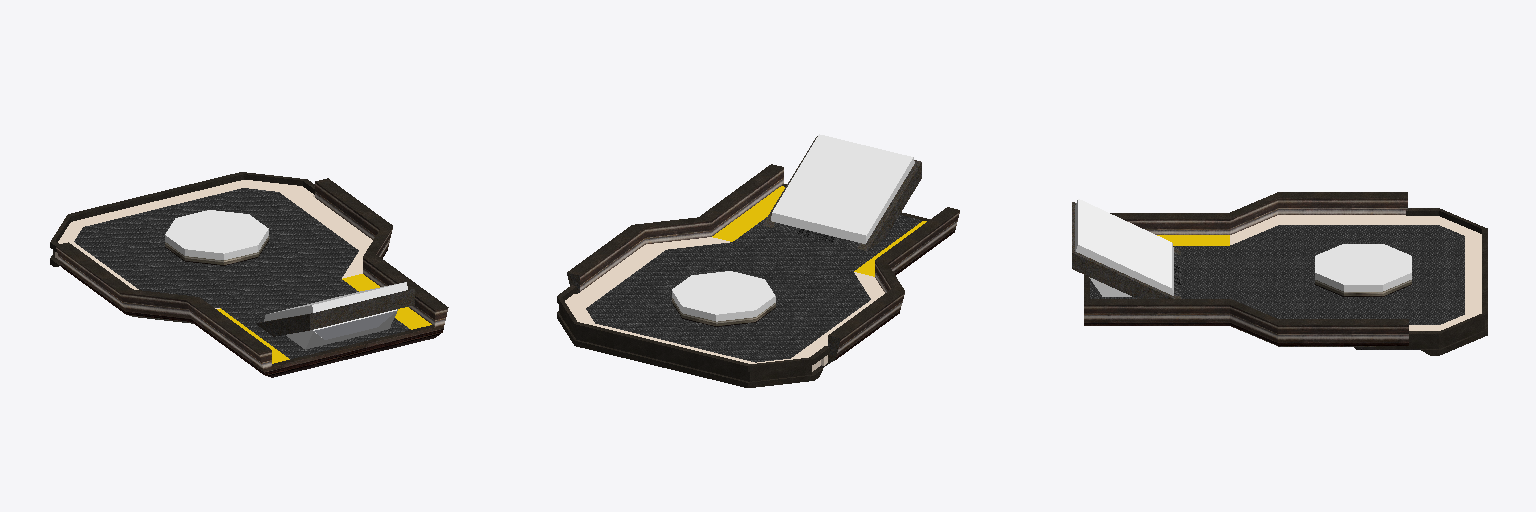
3 renders of one model, left to right at view 1: azimuth 30°, elevation 25°; view 2: azimuth 150°, elevation 25°; view 3: azimuth 270°, elevation 25°, orthographic.
Parts seen in each view (by area): view 1: entity0_brush6, entity1_brush0, entity0_brush4, entity0_brush5, entity0_brush7, entity0_brush32, entity0_brush33, entity0_brush8, entity0_brush10, entity0_brush13, entity0_brush11, entity0_brush2 (+11 smaller); view 2: entity2_brush0, entity0_brush6, entity1_brush0, entity0_brush5, entity0_brush4, entity0_brush32, entity0_brush33, entity0_brush10, entity0_brush7, entity0_brush13, entity0_brush11, entity0_brush12 (+13 smaller); view 3: entity0_brush6, entity2_brush0, entity1_brush0, entity0_brush13, entity0_brush11, entity0_brush5, entity0_brush32, entity0_brush10, entity0_brush4, entity0_brush33, entity0_brush7, entity0_brush1 (+5 smaller).
Part boxes in pixels (x1,y1,x2,y2): entity0_brush6: (91, 204, 358, 294); entity1_brush0: (165, 210, 268, 259); entity0_brush4: (221, 279, 410, 358); entity0_brush5: (180, 251, 358, 307); entity0_brush7: (186, 297, 271, 377); entity0_brush32: (75, 192, 294, 253); entity0_brush33: (74, 188, 275, 241); entity0_brush8: (272, 325, 434, 377); entity0_brush10: (56, 242, 132, 313); entity0_brush13: (363, 254, 448, 337); entity0_brush11: (315, 178, 392, 239); entity0_brush2: (304, 289, 414, 331); entity2_brush0: (771, 134, 914, 243); entity0_brush6: (603, 250, 869, 345); entity1_brush0: (672, 271, 775, 321); entity0_brush5: (668, 242, 870, 299); entity0_brush4: (733, 215, 922, 271); entity0_brush32: (586, 296, 806, 358); entity0_brush33: (586, 309, 789, 362); entity0_brush10: (828, 288, 904, 362); entity0_brush7: (875, 207, 959, 275); entity0_brush13: (699, 164, 783, 235); entity0_brush11: (567, 225, 644, 293); entity0_brush12: (635, 217, 711, 244); entity0_brush6: (1278, 225, 1405, 318); entity2_brush0: (1075, 199, 1173, 295); entity1_brush0: (1315, 244, 1411, 291); entity0_brush13: (1084, 299, 1229, 325); entity0_brush11: (1278, 319, 1408, 346); entity0_brush5: (1230, 226, 1277, 318); entity0_brush32: (1406, 225, 1438, 324); entity0_brush10: (1278, 192, 1407, 214); entity0_brush4: (1090, 246, 1229, 298); entity0_brush33: (1439, 225, 1464, 324); entity0_brush7: (1110, 213, 1229, 234); entity0_brush1: (1084, 256, 1180, 298).
Size of the model in its own units: 416 by 104 by 548.
15 materials, 10 textured.